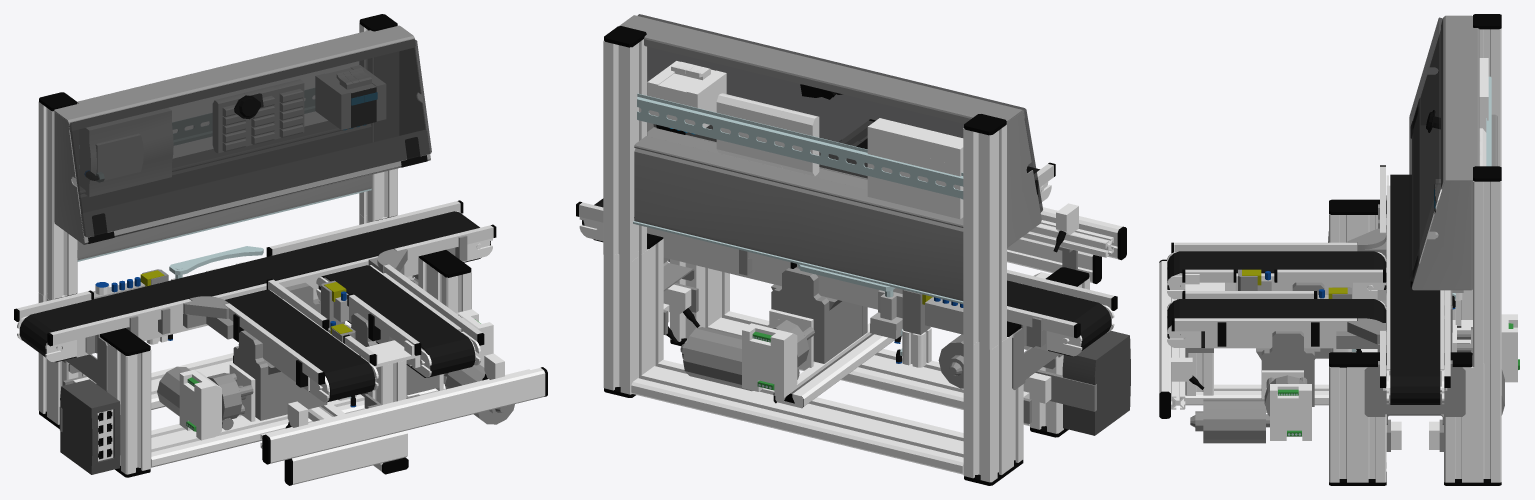
The model's file is CP Bridge.fbx.
3 renders of one model, left to right at view 1: azimuth 30°, elevation 25°; view 2: azimuth 150°, elevation 25°; view 3: azimuth 270°, elevation 25°, orthographic. The views are drawn at different scales.
Parts seen in each view (by area): view 1: FbxMesh (×54); view 2: FbxMesh (×54); view 3: FbxMesh (×48).
Part boxes in pixels (box(x1,y1,x2,y2)): FbxMesh (×54): box(17, 23, 547, 485); FbxMesh (×54): box(579, 14, 1130, 485); FbxMesh (×48): box(1159, 14, 1517, 485).
Size of the model in its own units: 0.6992 by 0.472 by 0.5026.
